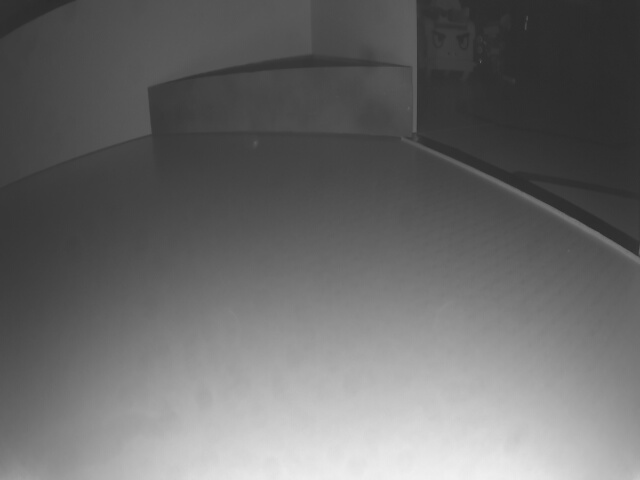Green: (147, 66, 415, 139)
